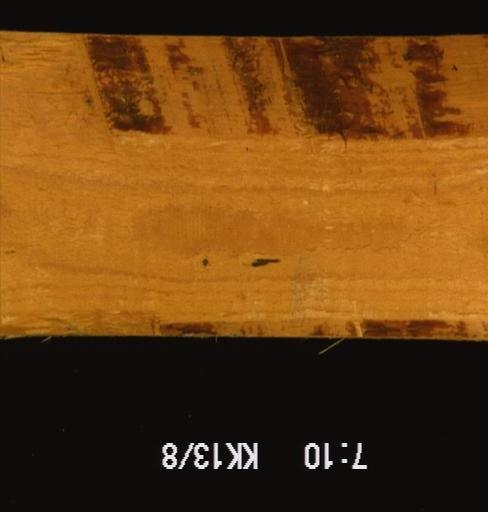small_knot: (198, 254, 213, 271)
wave: (0, 30, 486, 142), (136, 306, 483, 339)
